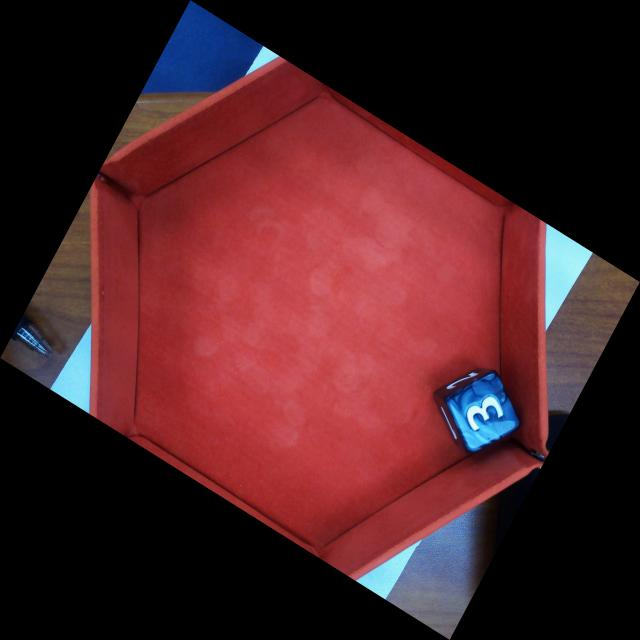dice: (448, 369, 522, 451)
